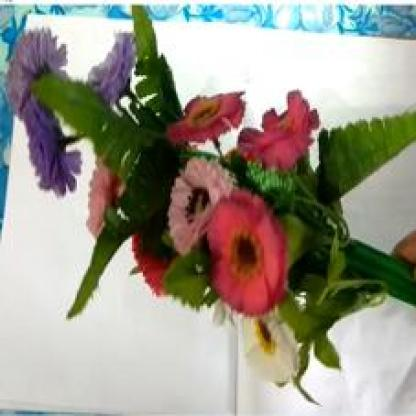flower: (29, 15, 391, 335)
